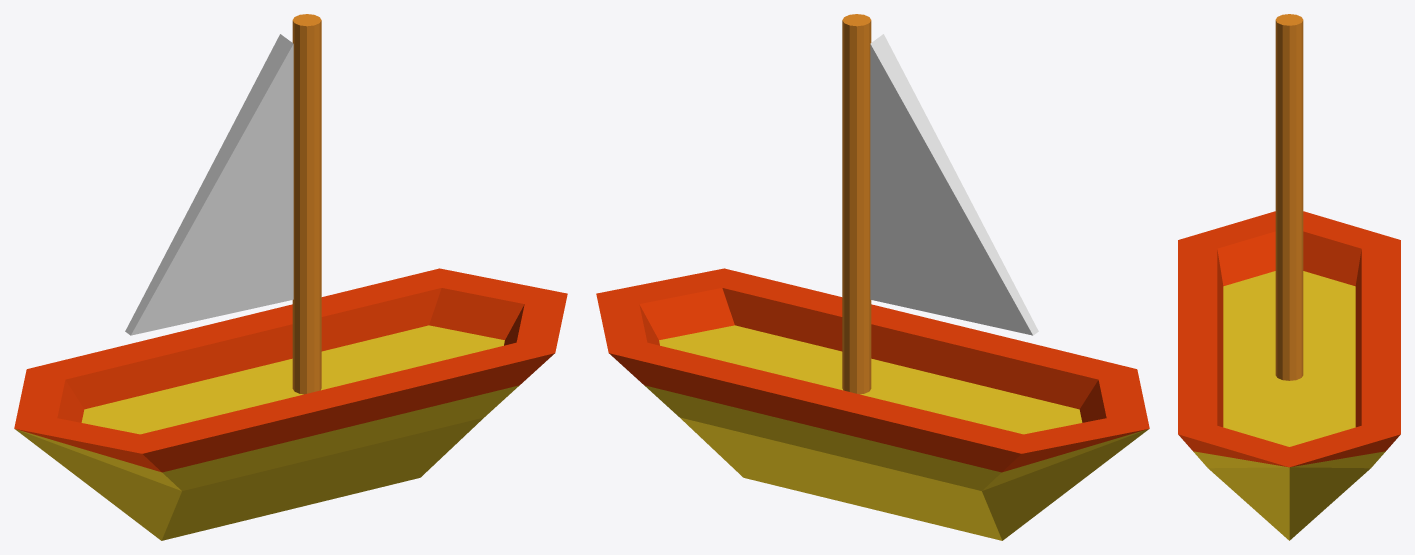
The model's file is boat.glb.
3 renders of one model, left to right at view 1: azimuth 30°, elevation 25°; view 2: azimuth 150°, elevation 25°; view 3: azimuth 270°, elevation 25°, orthographic. The views are drawn at different scales.
Parts seen in each view (by area): view 1: boat top hull, boat bottom hull, boat kite, boat ground, boat pole; view 2: boat top hull, boat bottom hull, boat kite, boat ground, boat pole; view 3: boat top hull, boat ground, boat pole, boat bottom hull.
Part boxes in pixels (<box>): boat top hull: <box>14,268,567,472</box>; boat bottom hull: <box>15,385,519,540</box>; boat kite: <box>125,34,293,335</box>; boat ground: <box>81,325,504,434</box>; boat pole: <box>292,14,321,394</box>; boat top hull: <box>596,268,1149,472</box>; boat bottom hull: <box>644,385,1148,540</box>; boat kite: <box>870,34,1038,335</box>; boat ground: <box>659,325,1082,434</box>; boat pole: <box>842,14,871,394</box>; boat top hull: <box>1178,211,1400,467</box>; boat ground: <box>1223,271,1355,446</box>; boat pole: <box>1275,14,1303,380</box>; boat bottom hull: <box>1193,451,1385,540</box>.
Size of the model in its own units: 0.1706 by 0.143 by 0.0617.
